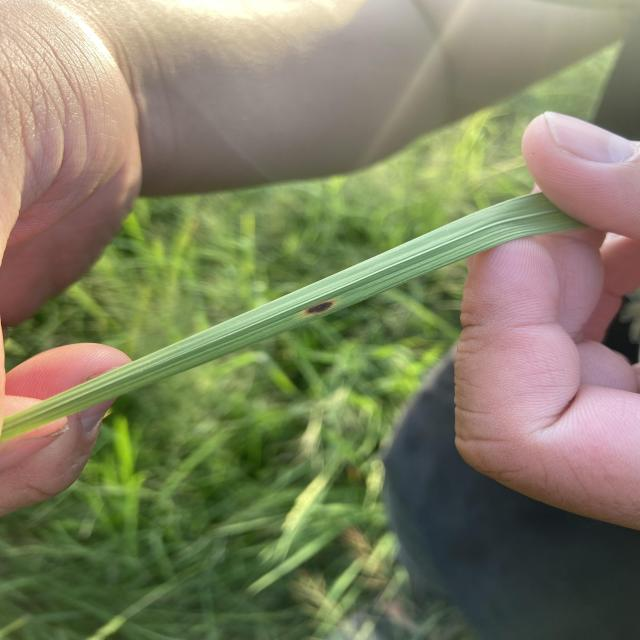Dom nau: (306, 301, 333, 314)
